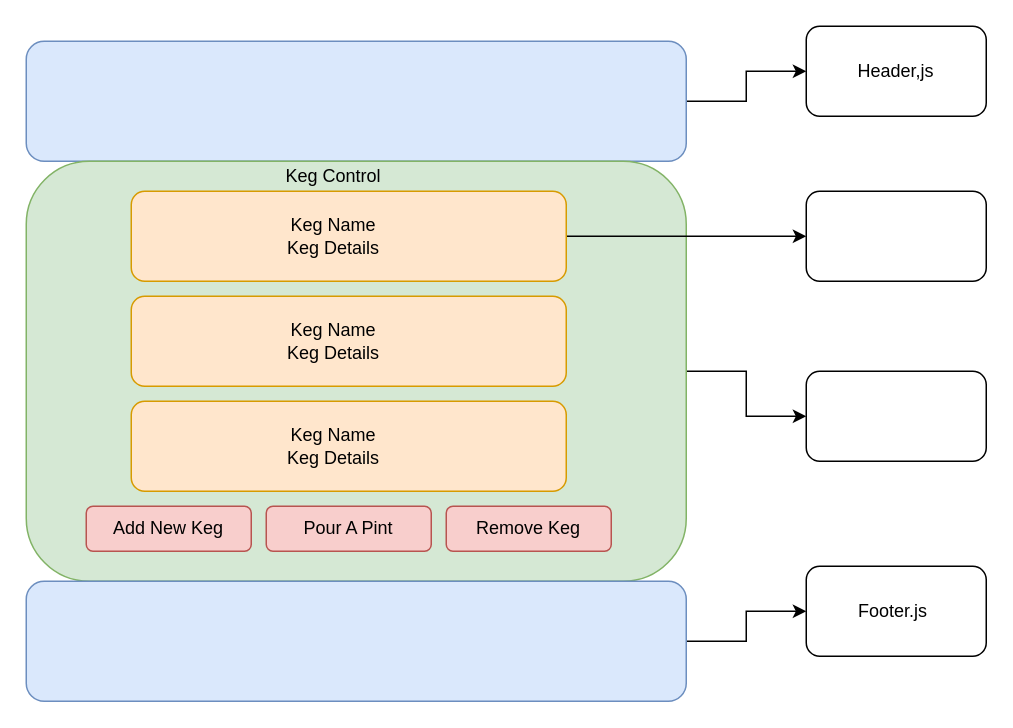
Some shapes in this 1013 by 728 pixel diagram are drawn without their labels. The centre of each missing label's shape, as x and y in pixels:
Footer: pixel 355 640
Header: pixel 355 100
Keg Detail.js: pixel 895 235
KegControl.js: pixel 895 415
